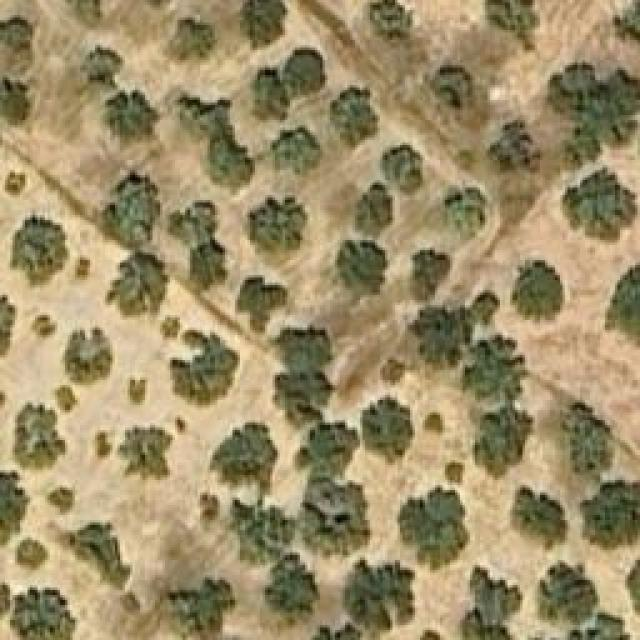Tree: (550, 62, 638, 160), (177, 93, 255, 196), (408, 293, 501, 368), (398, 485, 468, 573), (168, 333, 241, 408), (563, 168, 636, 241), (300, 477, 365, 555), (343, 560, 413, 628), (458, 565, 521, 640), (60, 523, 130, 588), (475, 405, 535, 480), (10, 213, 70, 286), (167, 577, 234, 640), (210, 425, 275, 488), (7, 403, 65, 473), (103, 175, 158, 248), (10, 582, 78, 640), (230, 500, 290, 565), (538, 560, 598, 625), (558, 403, 611, 476), (245, 197, 308, 255), (465, 340, 525, 400), (513, 488, 568, 551), (585, 483, 640, 546), (363, 398, 416, 463), (117, 425, 175, 483), (60, 328, 115, 388), (103, 90, 163, 143), (513, 260, 563, 323), (265, 558, 315, 621), (330, 88, 378, 151), (235, 278, 288, 333), (605, 265, 640, 348), (270, 125, 323, 178), (110, 257, 158, 315), (295, 425, 353, 473), (485, 0, 540, 50), (278, 327, 328, 375), (240, 0, 288, 48), (408, 248, 451, 301), (383, 140, 423, 195), (370, 0, 413, 50), (340, 243, 383, 293), (0, 15, 40, 68), (490, 118, 530, 171), (0, 470, 28, 545), (355, 183, 393, 238), (170, 18, 218, 61), (425, 65, 473, 108), (277, 378, 325, 421), (173, 200, 218, 245), (80, 45, 123, 88), (440, 188, 483, 231), (580, 612, 640, 640), (293, 45, 328, 90), (15, 535, 50, 578), (0, 77, 32, 124), (255, 72, 285, 120), (190, 247, 223, 285), (0, 293, 18, 358), (617, 0, 640, 40), (48, 483, 78, 513), (68, 0, 101, 25), (55, 385, 80, 413), (5, 170, 25, 198), (128, 377, 148, 405), (33, 315, 56, 338), (423, 413, 443, 436), (445, 463, 463, 483), (75, 258, 90, 281)
